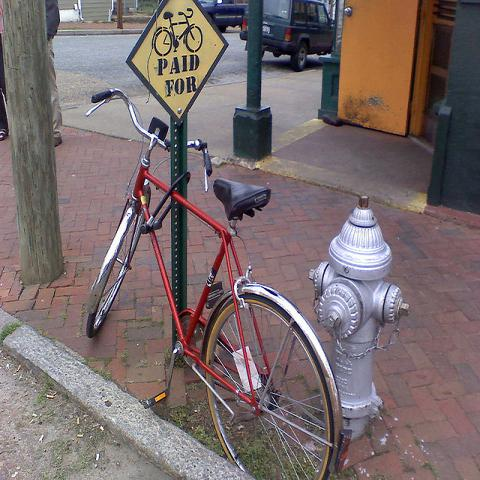car: (238, 1, 336, 73), (200, 2, 249, 36)
